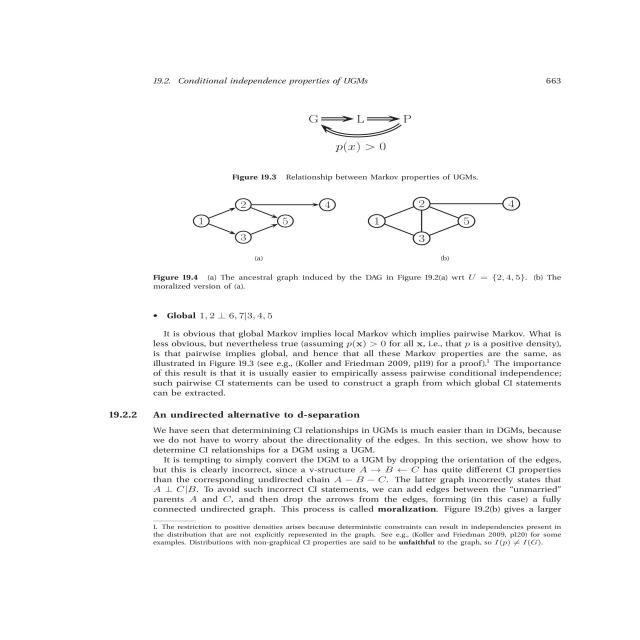diagram: (84, 74, 576, 297)
